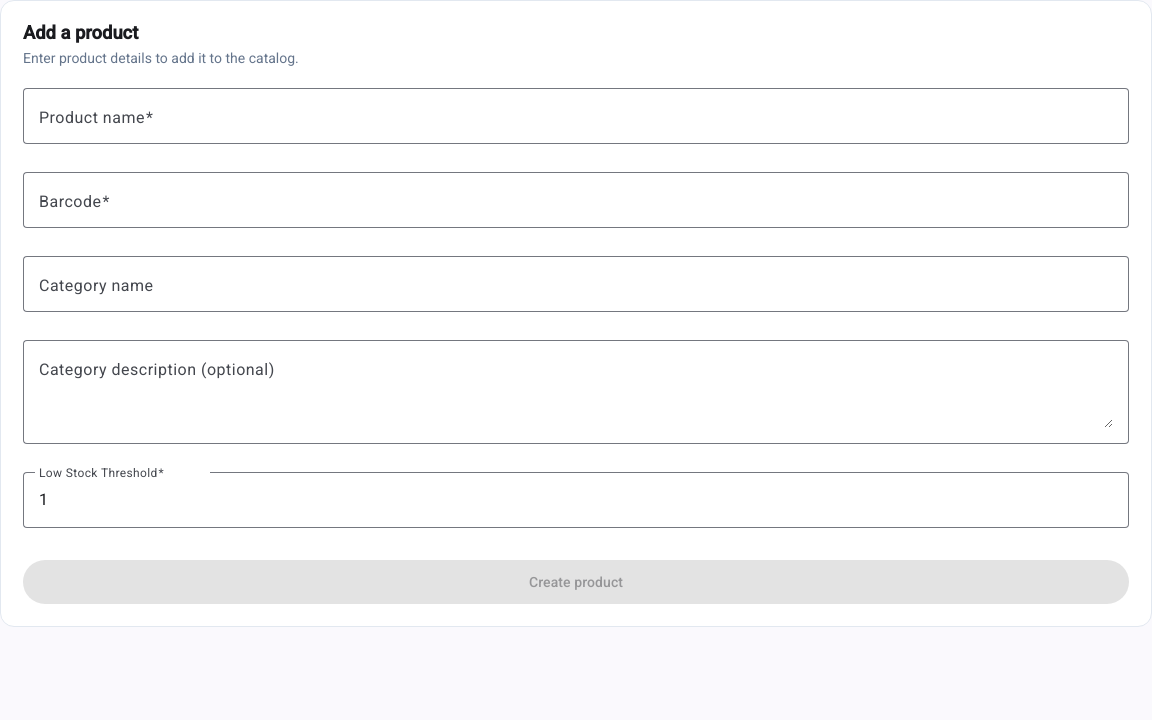
Test: ProductFormComponent › keeps the submit button disabled until name and barcode are filled
Expected: the submit button is disabled, [23,560,1129,604]
Type "Milk" into the field named "name" at x=576, y=116, box [39,104,1113,128]
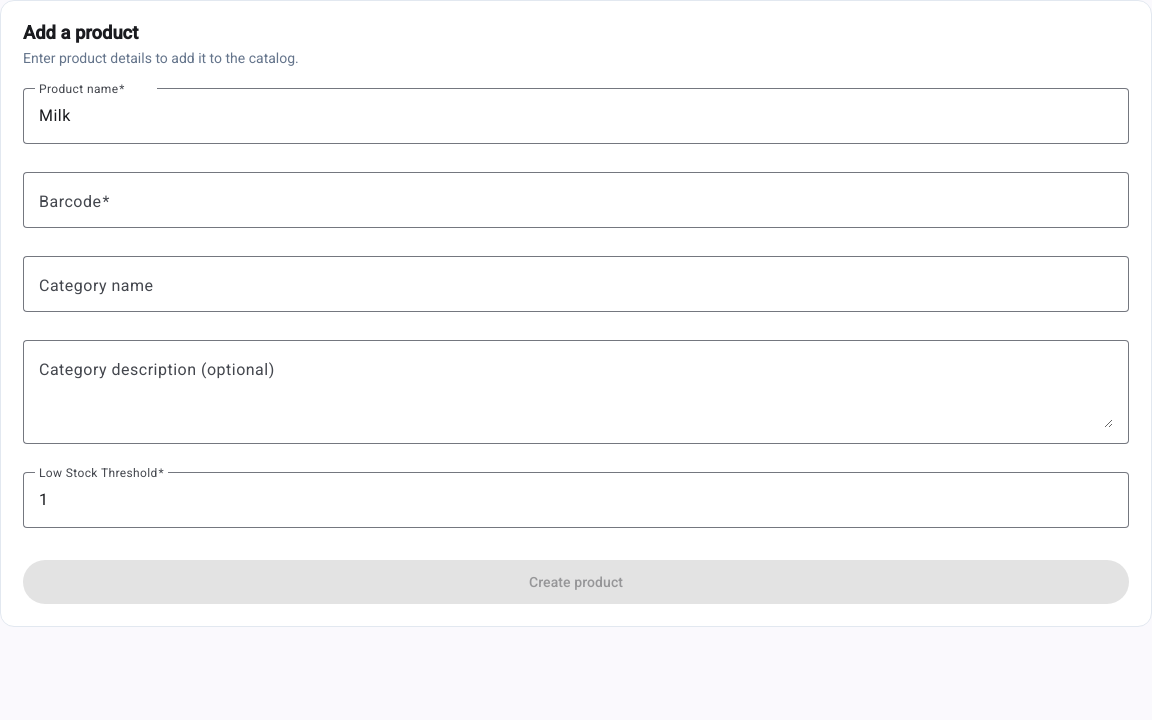
Expected: the submit button is disabled, [23,560,1129,604]
Type "123" into the field labelled "Barcode" at x=576, y=200, box [39,188,1113,212]
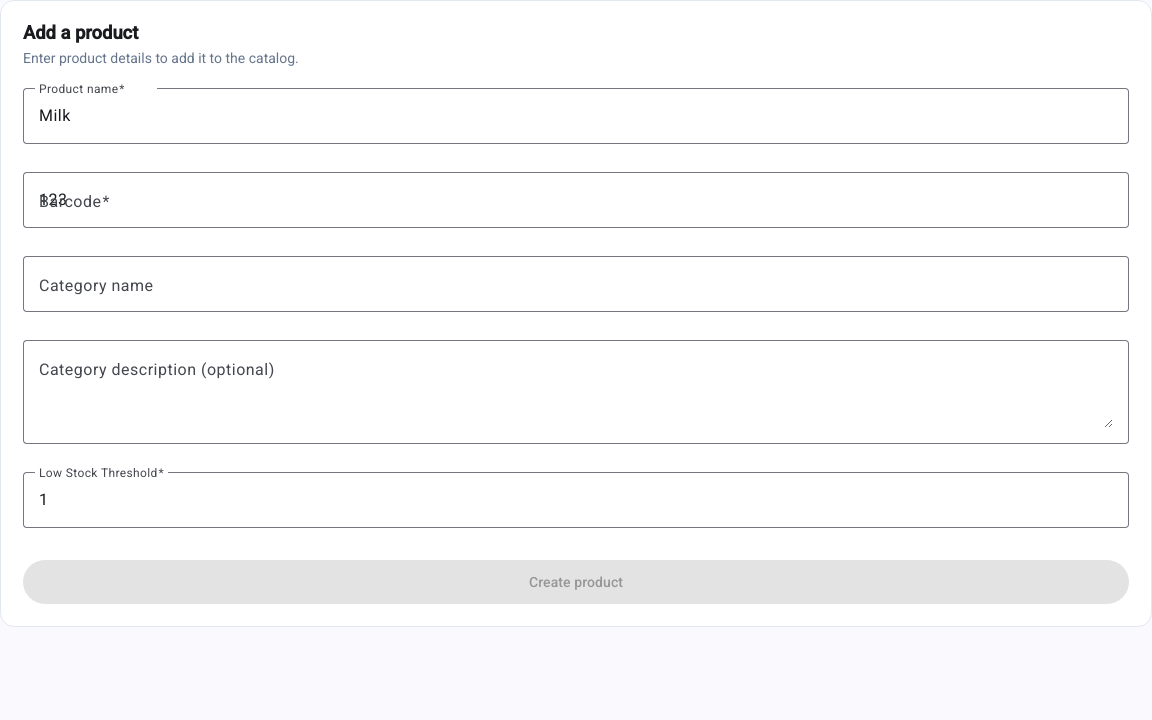
Leave the field labelled "Barcode", box [39,188,1113,212]
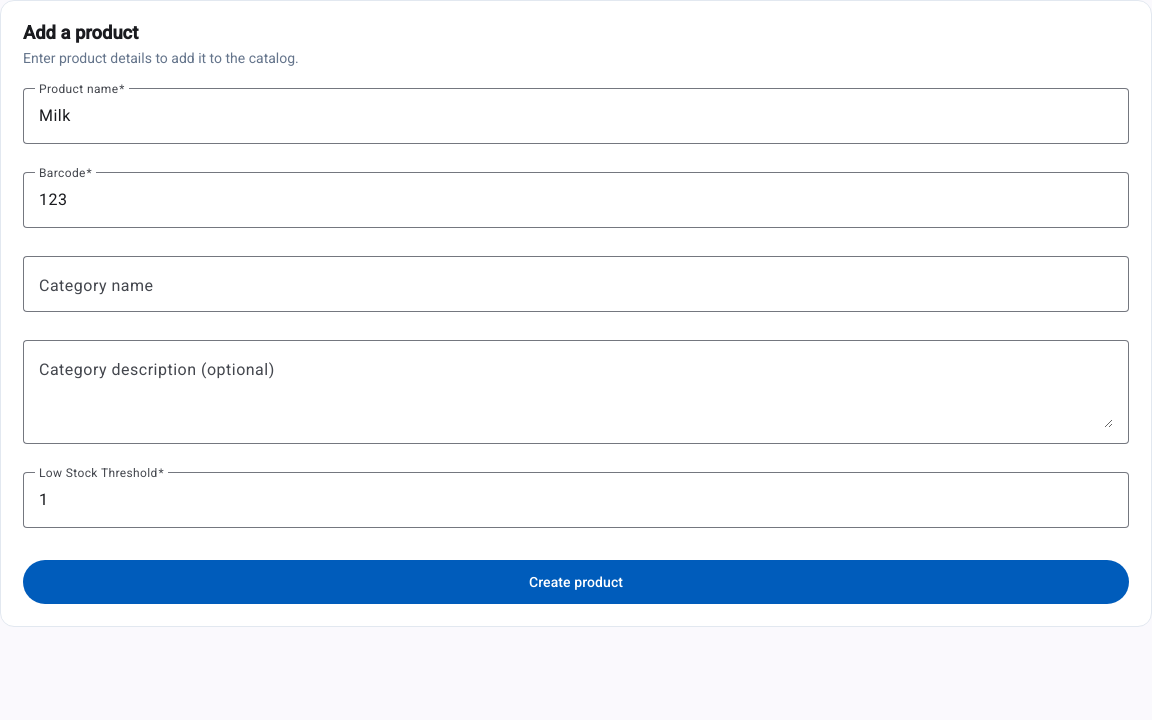
Expected: the submit button is enabled, [23,560,1129,604]
